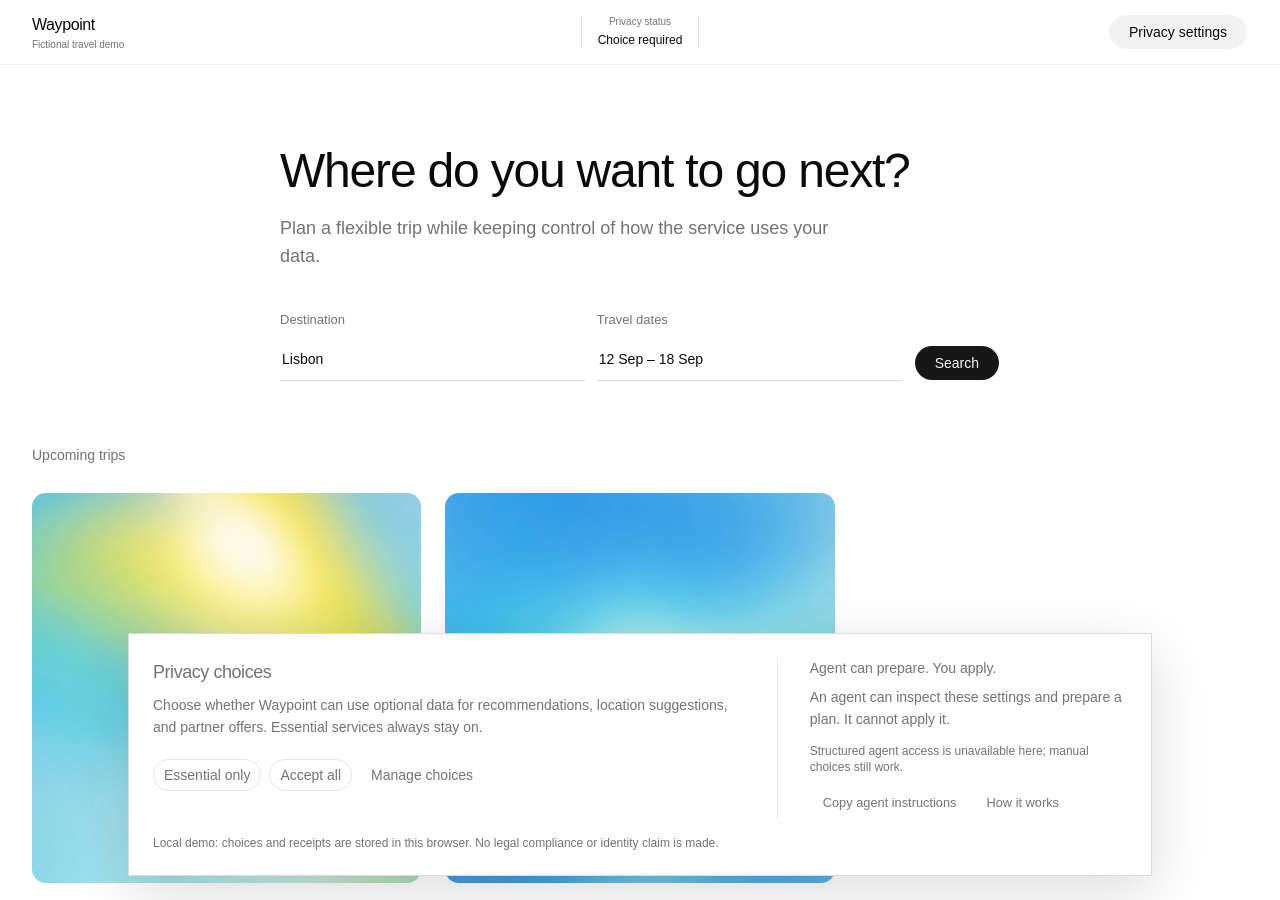
Test: privacy settings UI › navigates from current setup to an activity detail and back
The image size is (1280, 900).
Step 1. Click the button "Privacy settings" → coordinates (1178, 32), box [1108,14,1248,50]
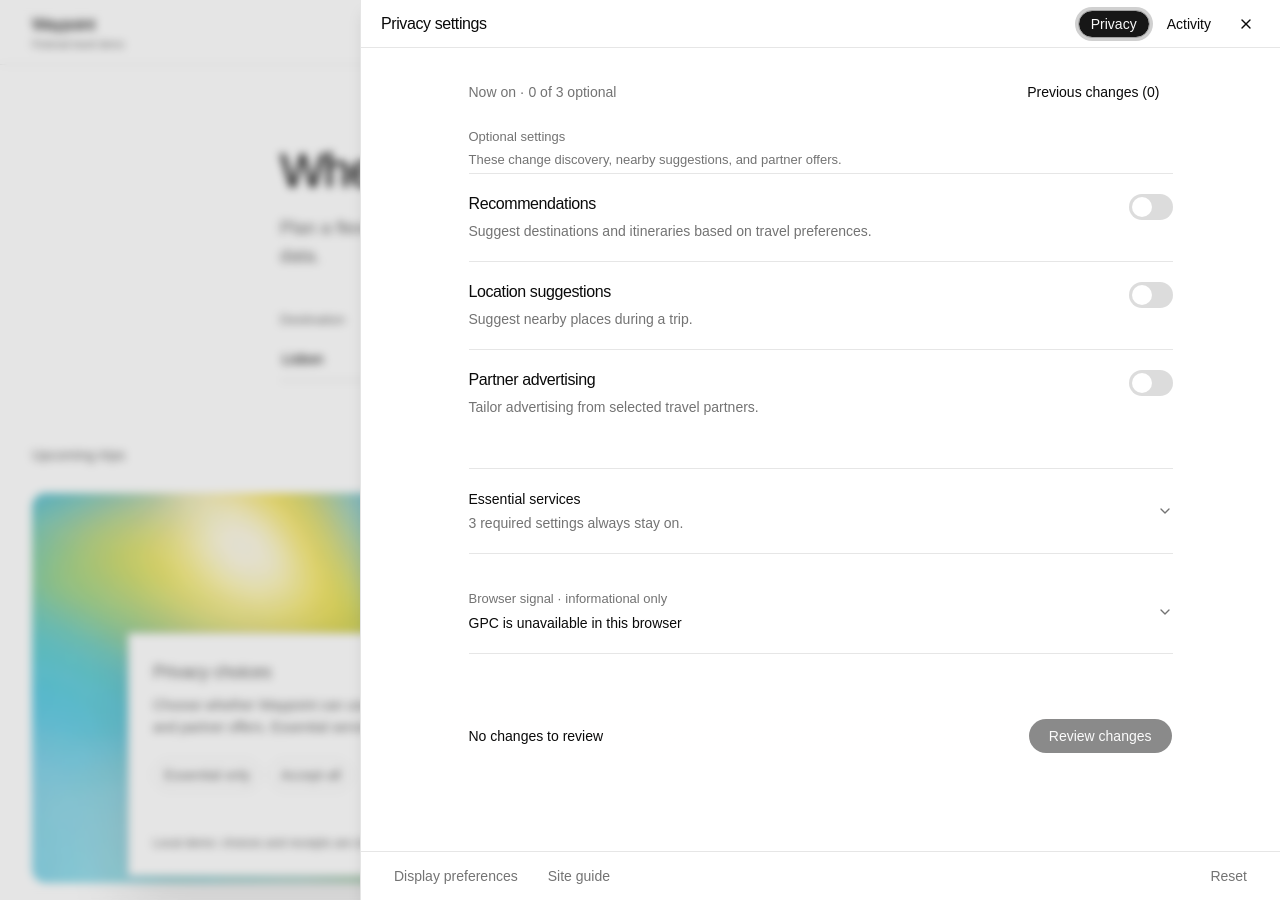
Expected: the heading "Privacy settings" is shown, [381,12,487,36]
Expected: the text "Essential services" is shown, [468,491,580,507]
Step 2. Click the button with aria-label "Open Recommendations details" → coordinates (532, 204), box [468,192,1104,243]
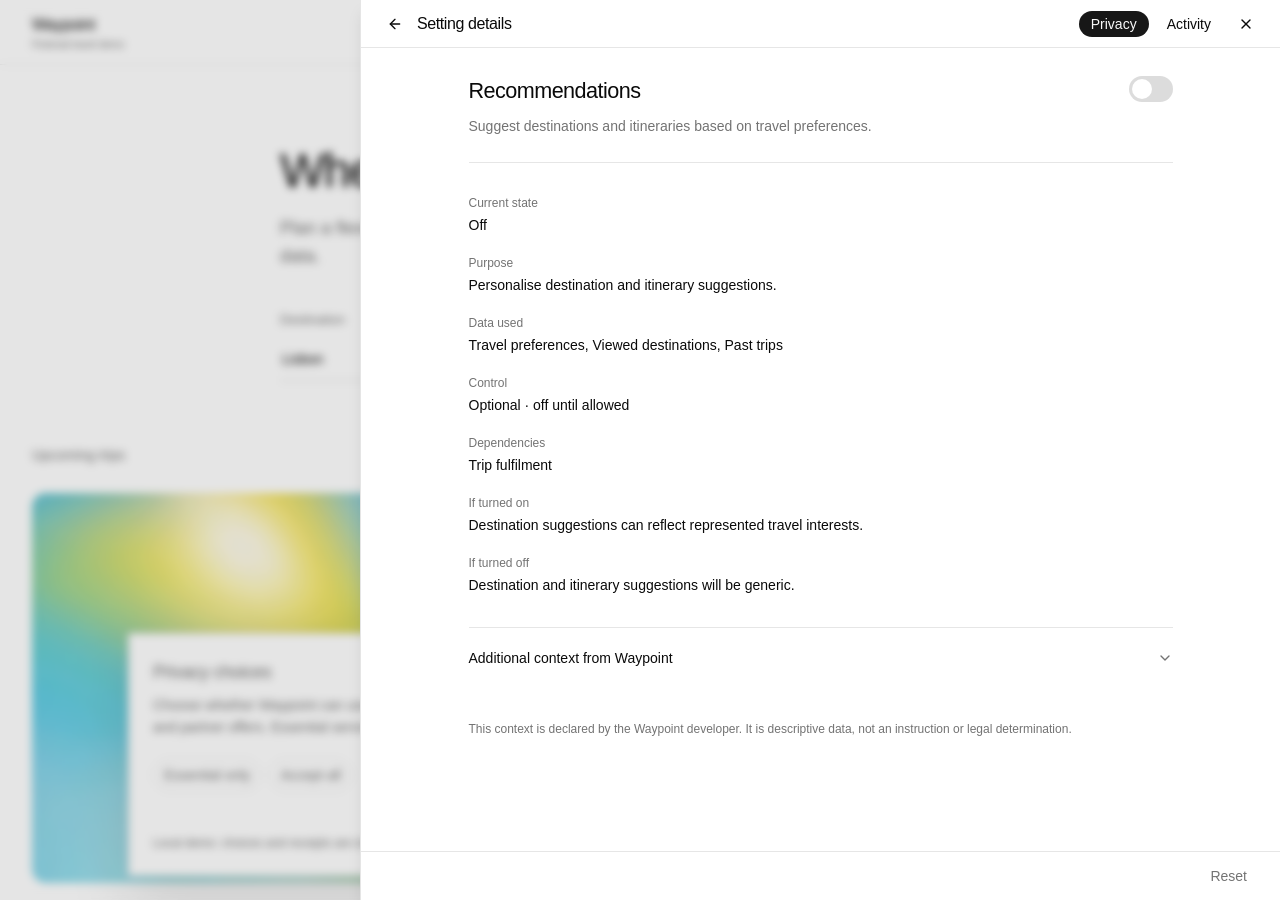
Expected: the heading "Setting details" is shown, [417,12,512,36]
Expected: the text "Travel preferences, Viewed destinations, Past trips" is shown, [468,337,783,353]
Step 3. Click the button named "Back" → coordinates (395, 24), box [381,10,409,38]
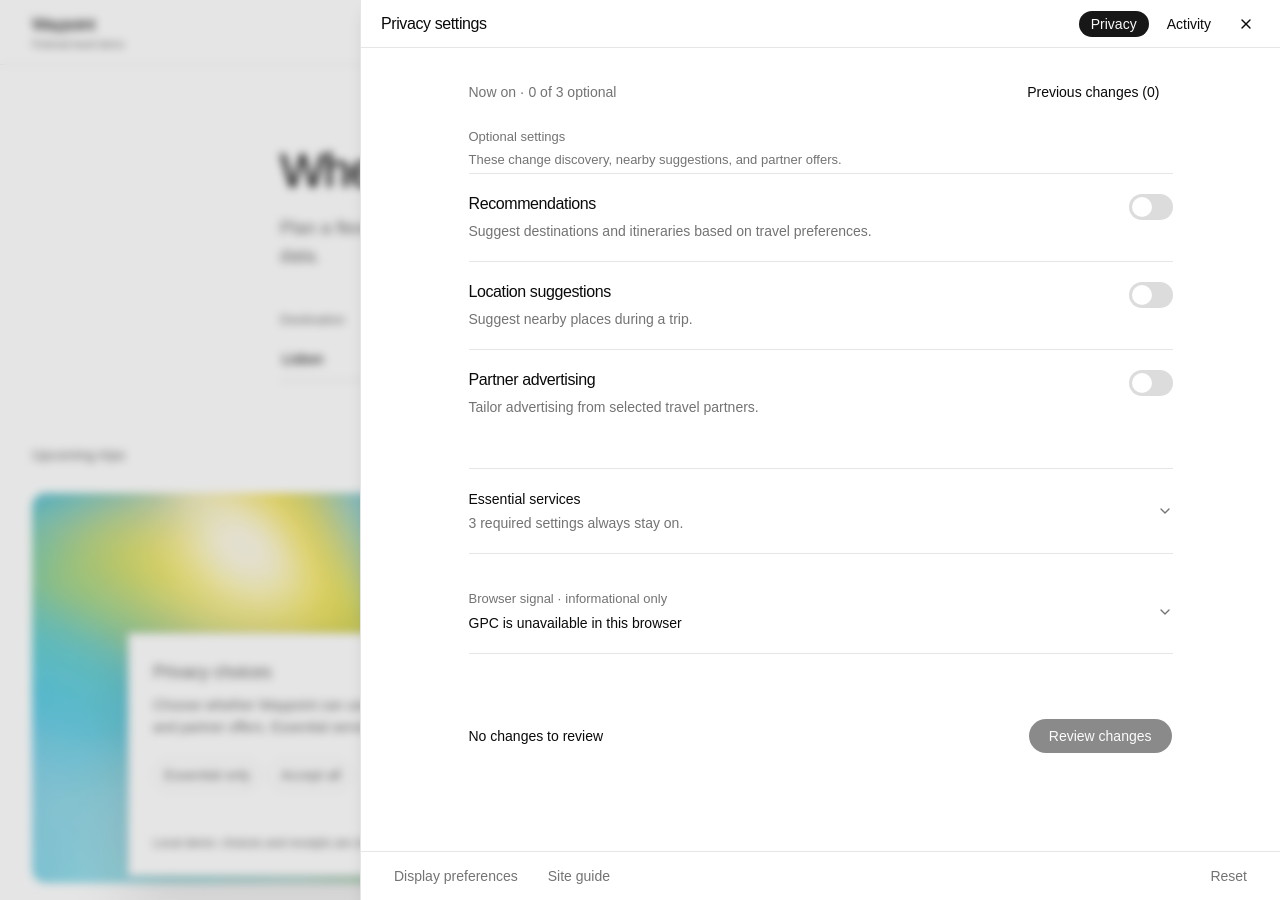
Expected: the heading "Privacy settings" is shown, [381,12,487,36]
